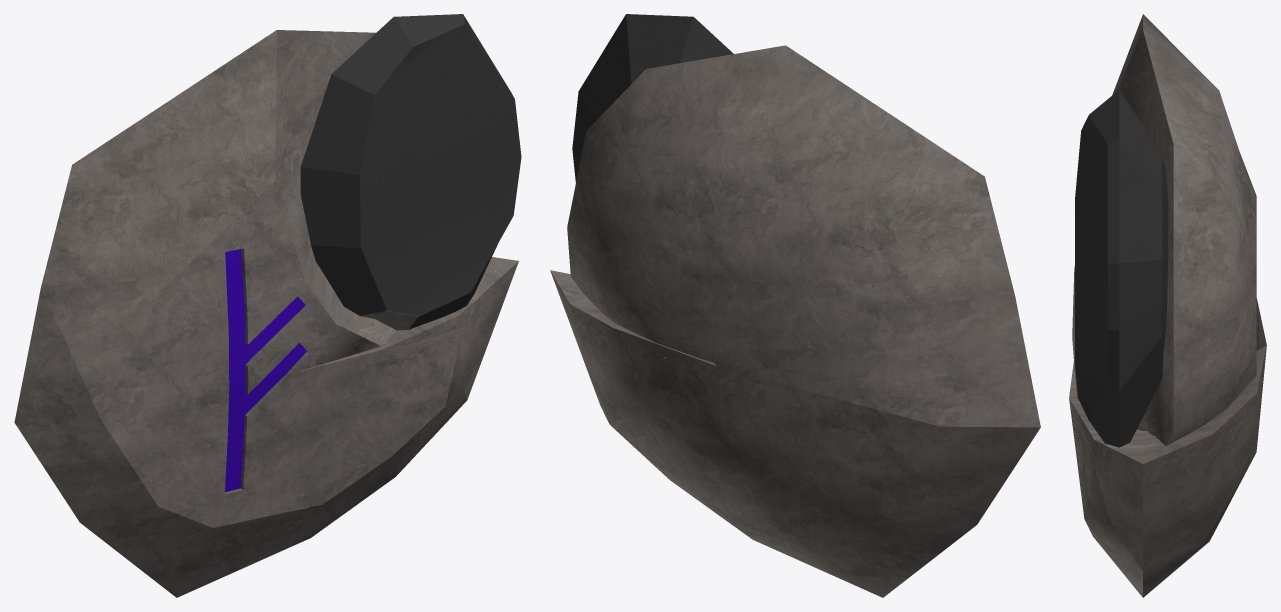
Rendered from Debuff_Freeze.fbx.
3 renders of one model, left to right at view 1: azimuth 30°, elevation 25°; view 2: azimuth 150°, elevation 25°; view 3: azimuth 270°, elevation 25°, orthographic. The views are drawn at different scales.
Parts seen in each view (by area): view 1: Debuff_F Rune; view 2: Debuff_F Rune; view 3: Debuff_F Rune.
Boxes of the visible parts, x1,y1,x2,y2 form: Debuff_F Rune: [14, 14, 521, 597]; Debuff_F Rune: [550, 14, 1040, 597]; Debuff_F Rune: [1069, 14, 1266, 597].
Size of the model in its own units: 59.39 by 61.14 by 18.96.
1 material, 1 textured.
